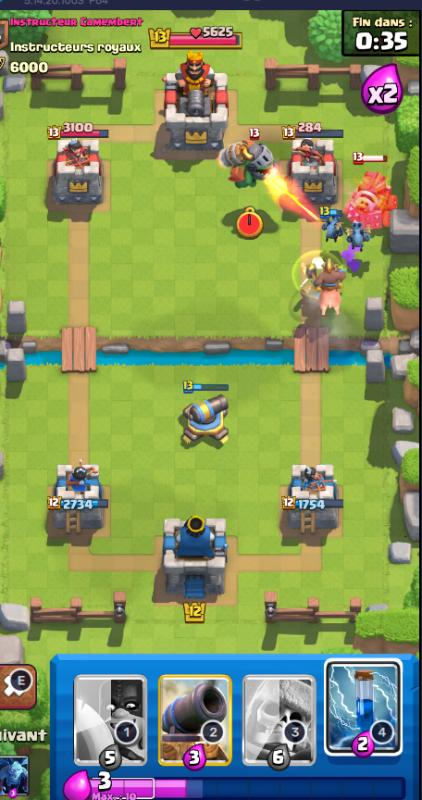gargouille: (344, 218, 372, 248), (320, 211, 347, 242)
zappy: (348, 170, 397, 235)
